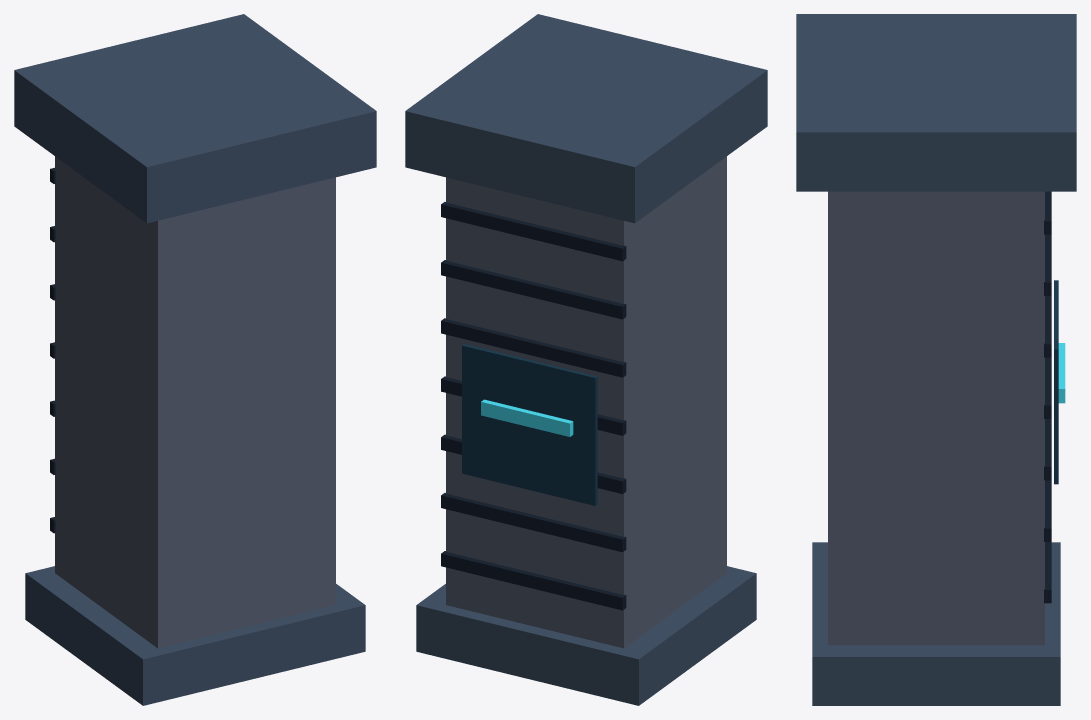
The model's file is env_coolant_tank.obj.
3 views of the same model, side by side, from view 1: azimuth 30°, elevation 25°; view 2: azimuth 150°, elevation 25°; view 3: azimuth 270°, elevation 25° (orthographic). The views are drawn at different scales.
Bounding box in the file's own units: 1.24 × 2.81 × 1.24.
